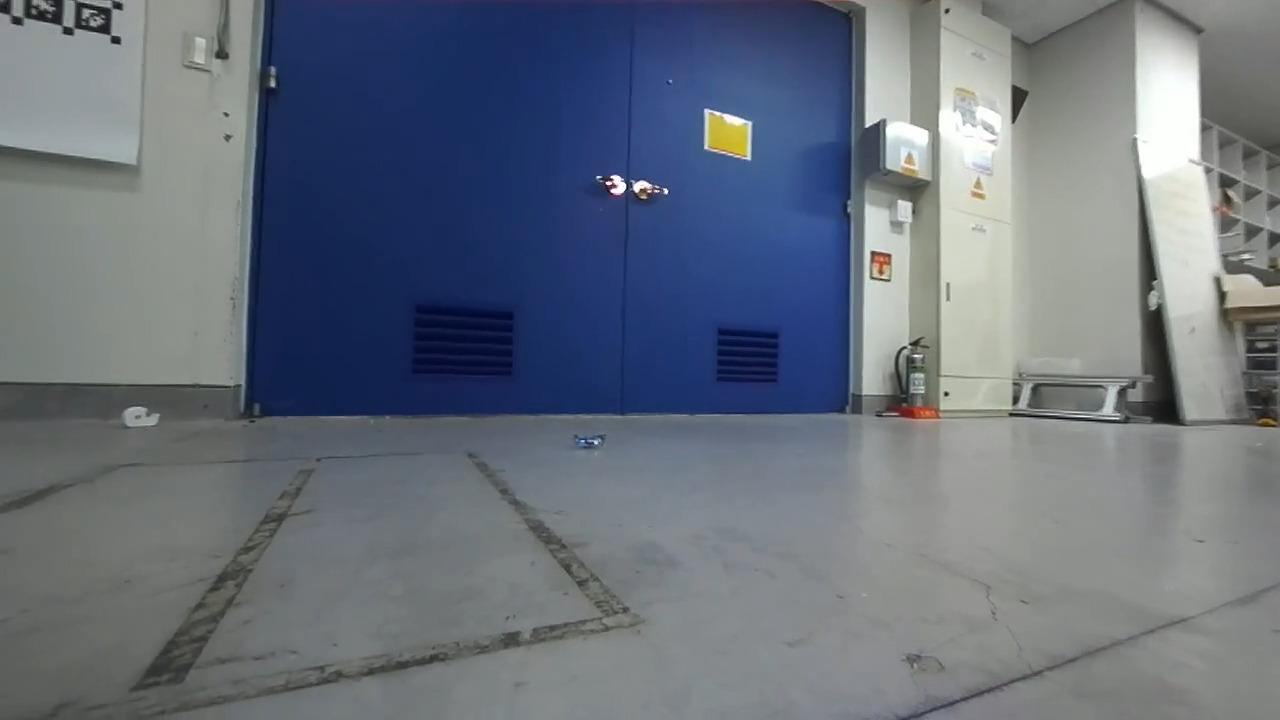crazyflie: (567, 426, 611, 456)
